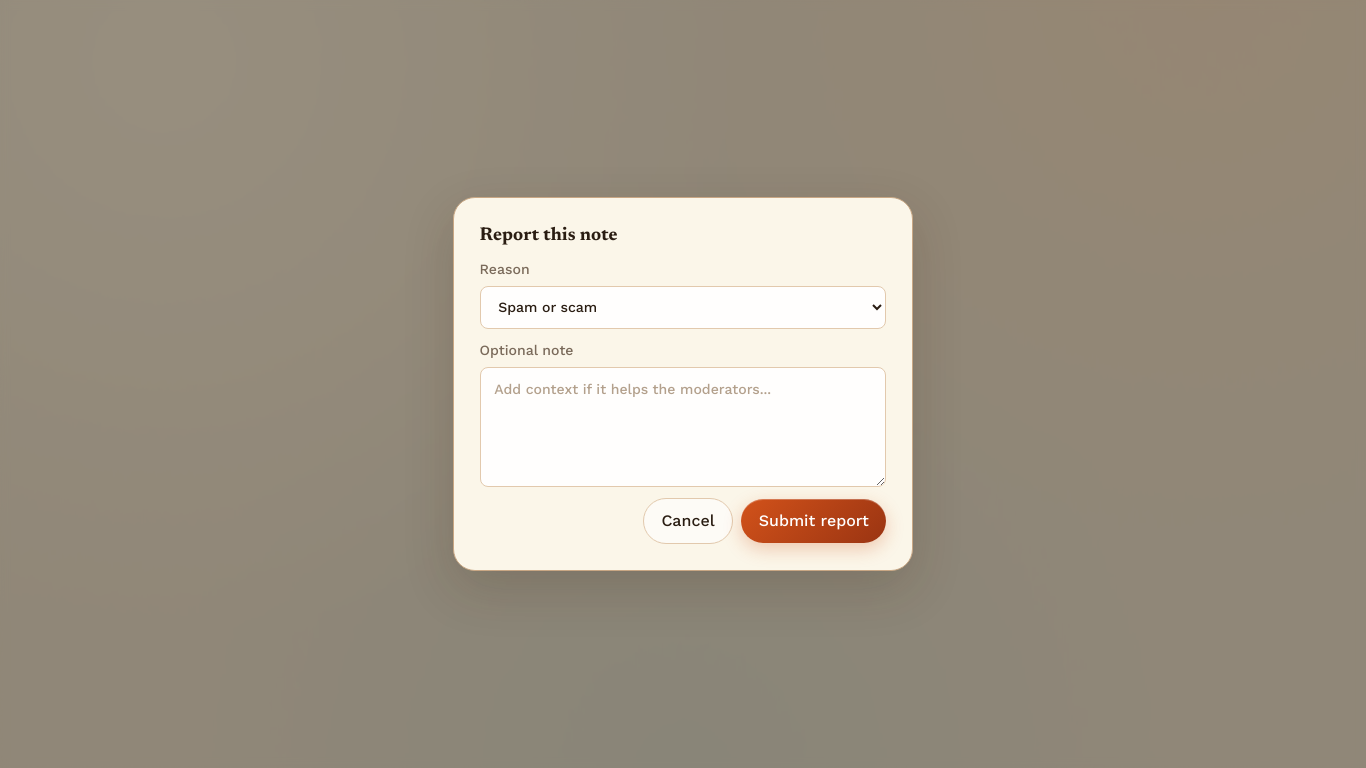
Test case: ReportDialog › shows the API error and keeps the form usable
The width and height of the screenshot is (1366, 768).
Click the button "Submit report": (814, 521) [741,499,886,543]
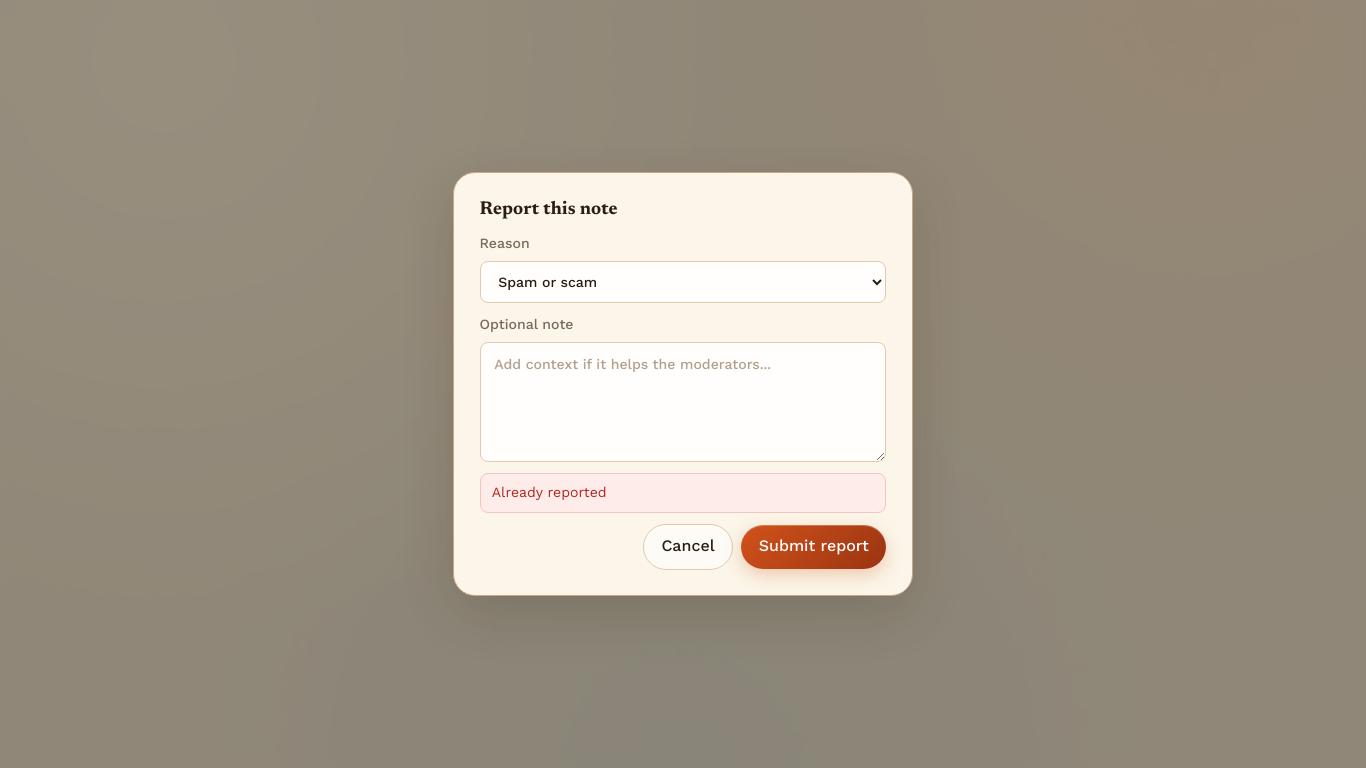
Expected: the button "Submit report" is enabled, [741,525,886,569]
Expected: the text "Already reported" is shown, [480,473,886,513]
